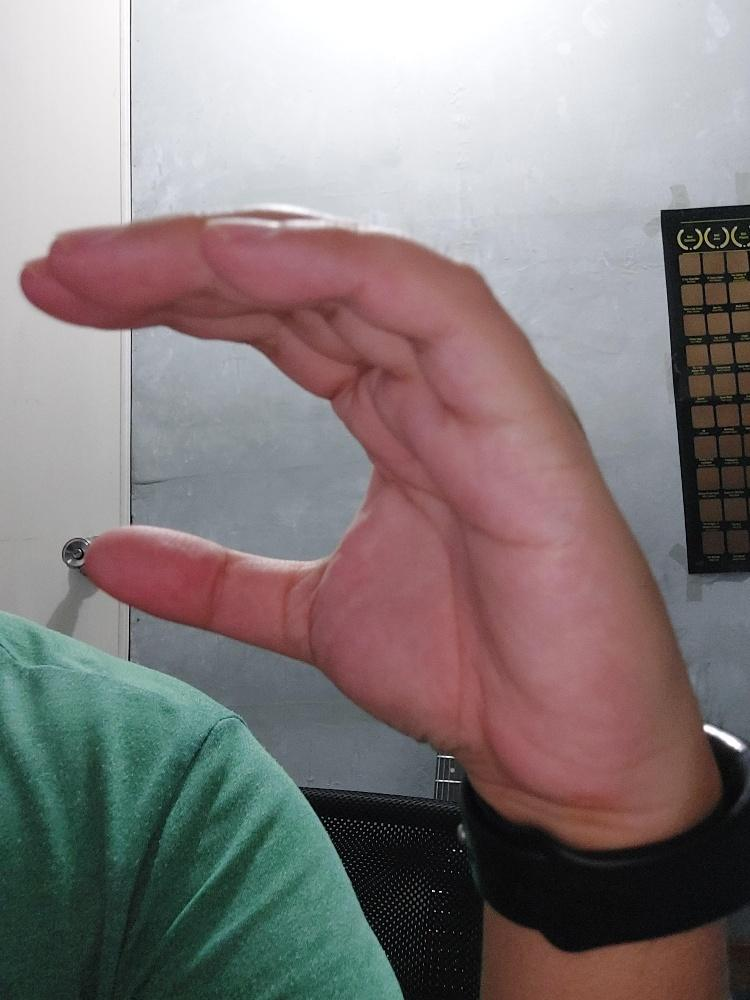c: (16, 200, 697, 788)
